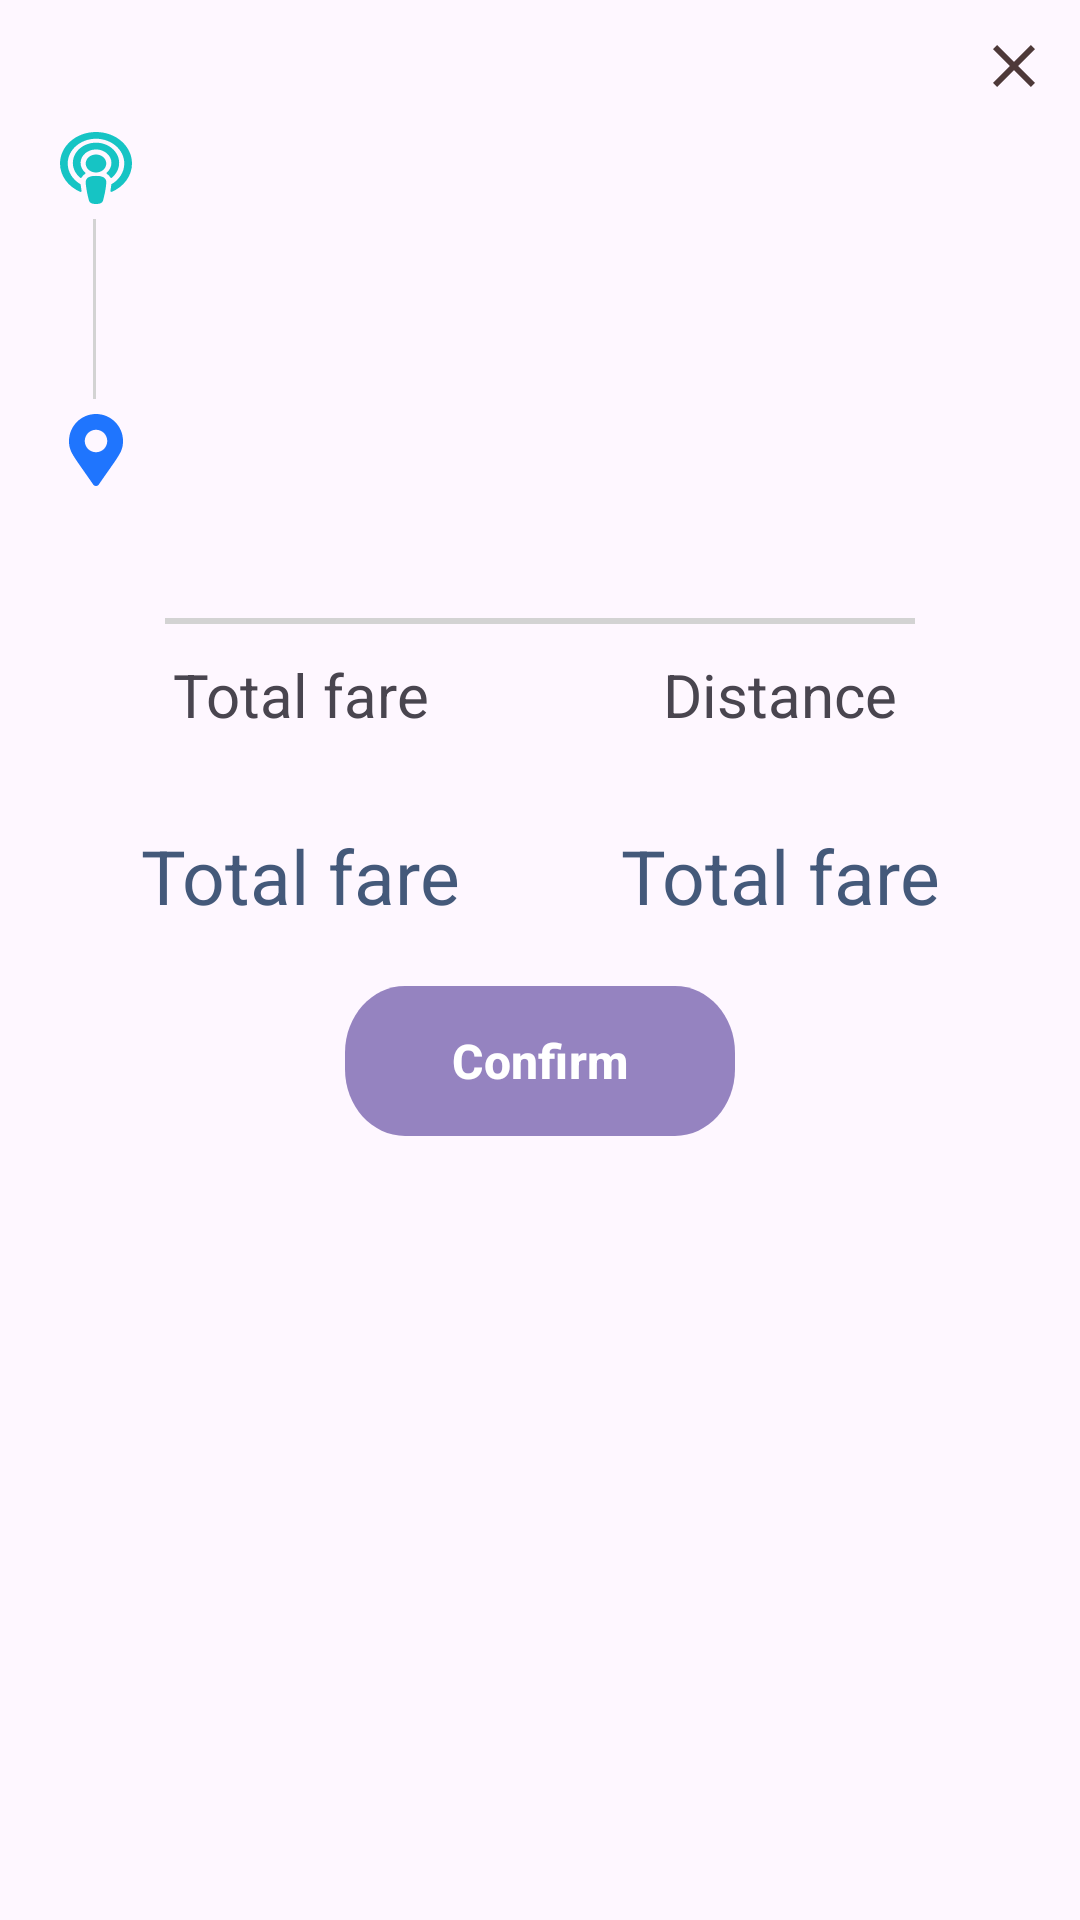

Screen size 1080×1920. Icon name, then its center in pixels as (x=x, y=y):
close: (x=1014, y=66)
destination: (x=96, y=450)
